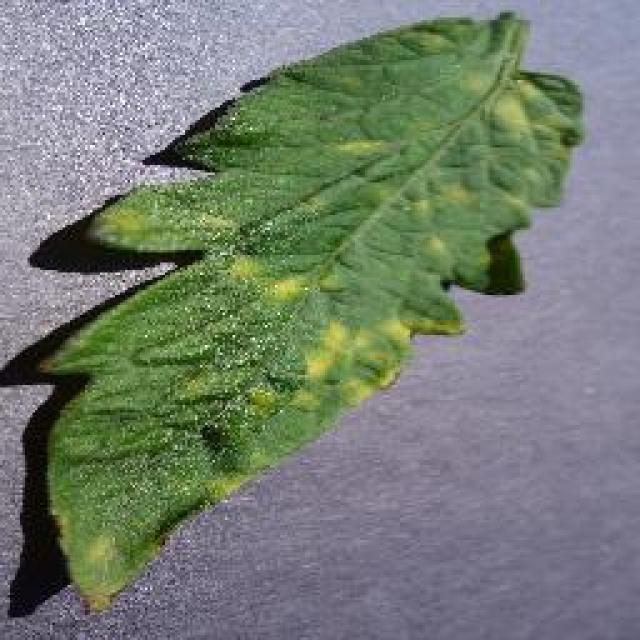Tomato___Leaf_Mold: (31, 12, 585, 618)
